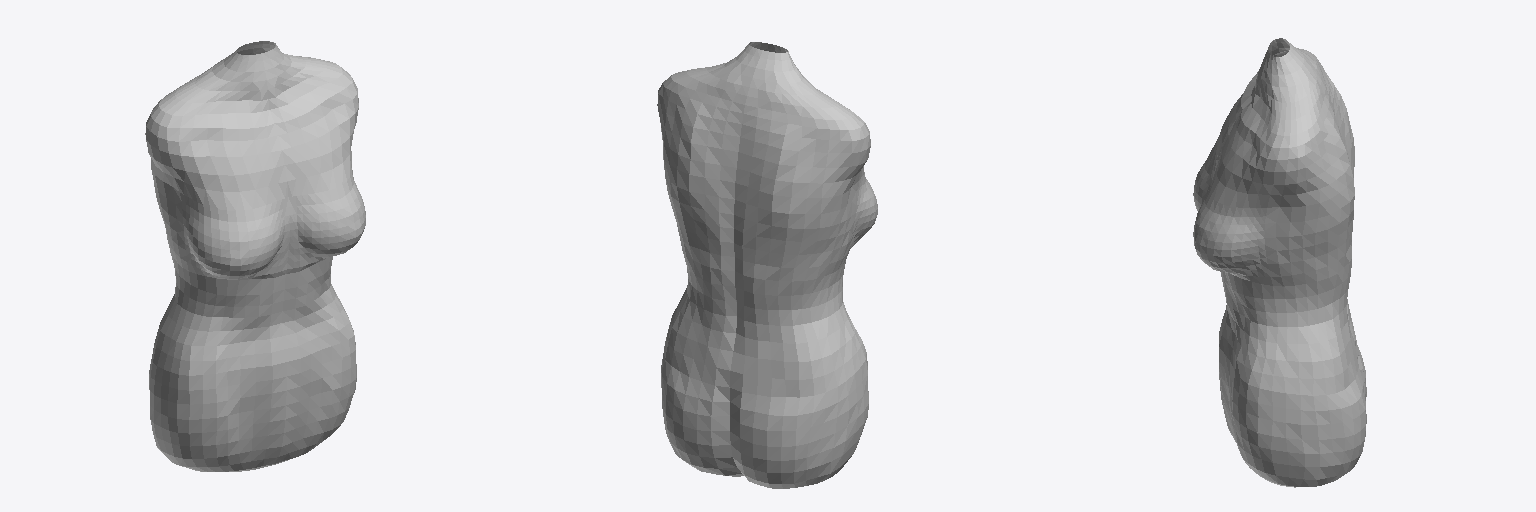
File: woman2.obj
3 views of the same model, side by side, from view 1: azimuth 30°, elevation 25°; view 2: azimuth 150°, elevation 25°; view 3: azimuth 270°, elevation 25° (orthographic).
Bounding box in the file's own units: 37.46 × 73.17 × 27.46.